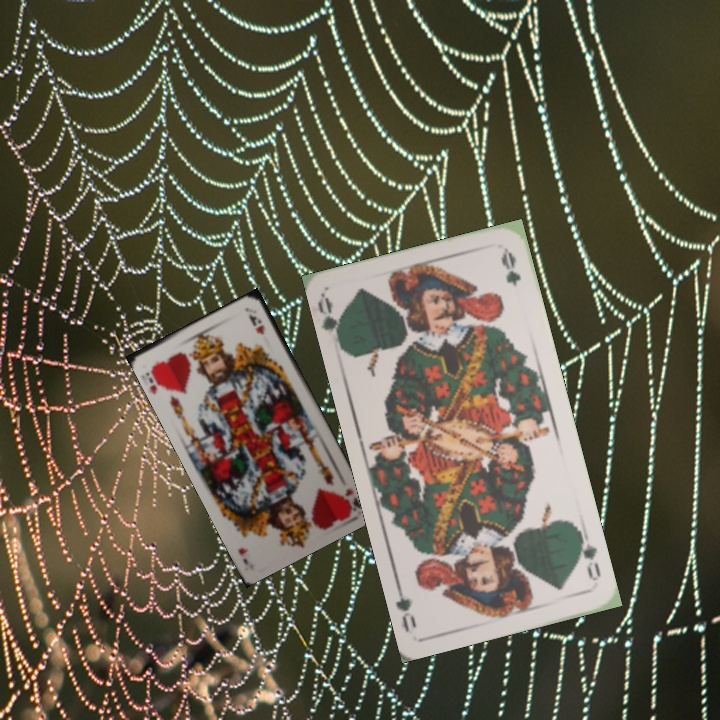GO: (315, 294, 347, 352), (574, 528, 604, 584)
HK: (141, 361, 169, 394), (338, 484, 364, 514)
